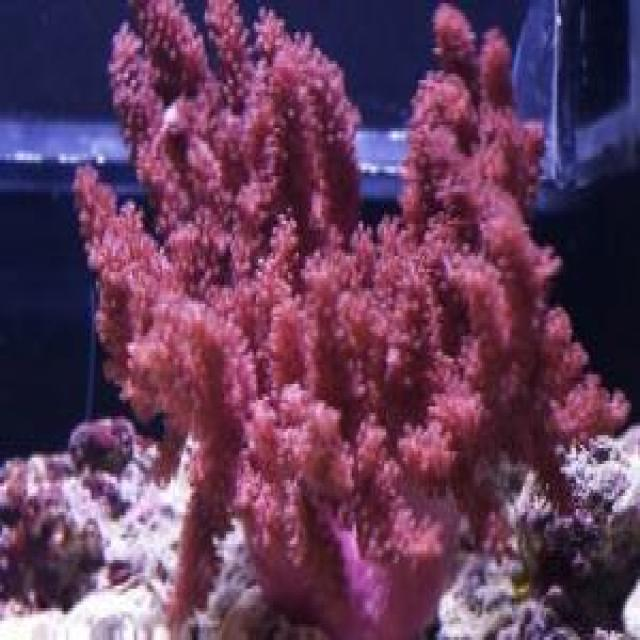healthy coral: (75, 2, 629, 638)
